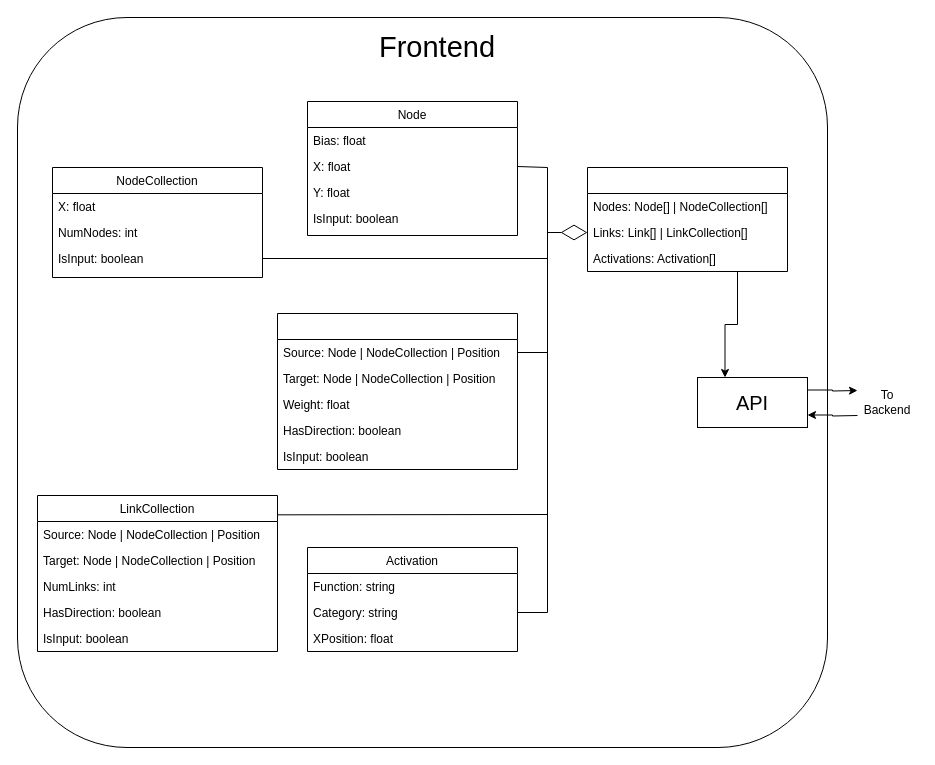
Image size: 935x765. Some labels were removed from this diagram. Each missing label, with the box of its shape:
Graph: (586, 166, 788, 272)
Link: (276, 312, 518, 470)
